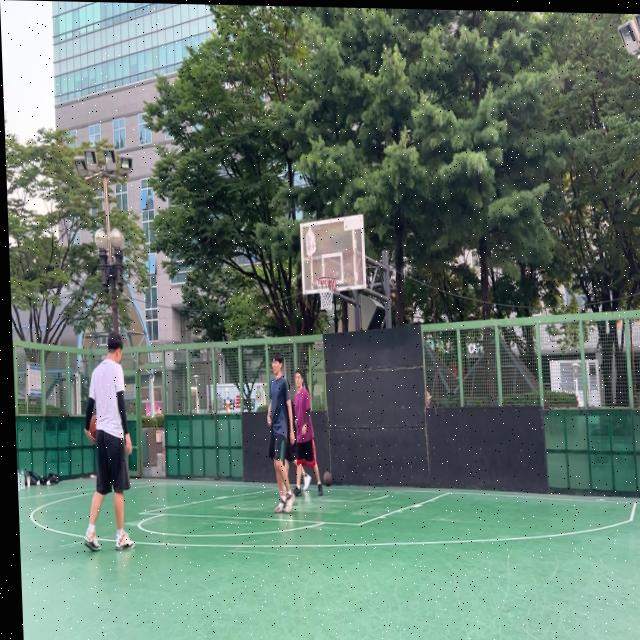basketball: (89, 413, 97, 437)
hoop: (316, 276, 337, 311)
